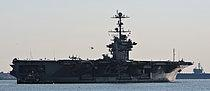MIL_Ship: (9, 34, 193, 84)
